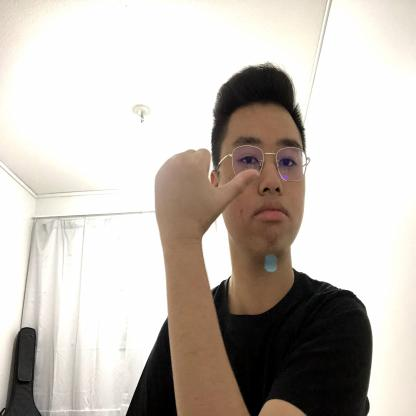left: (153, 145, 261, 240)
